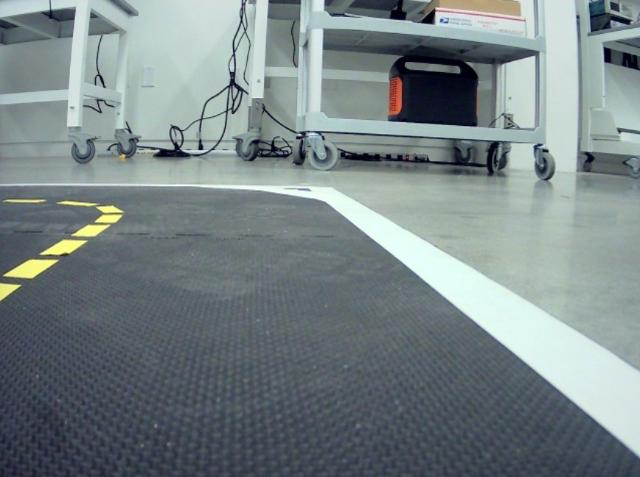whiteline: (309, 187, 640, 466), (0, 183, 339, 190)
yellowline: (0, 207, 125, 305), (0, 199, 101, 207)
